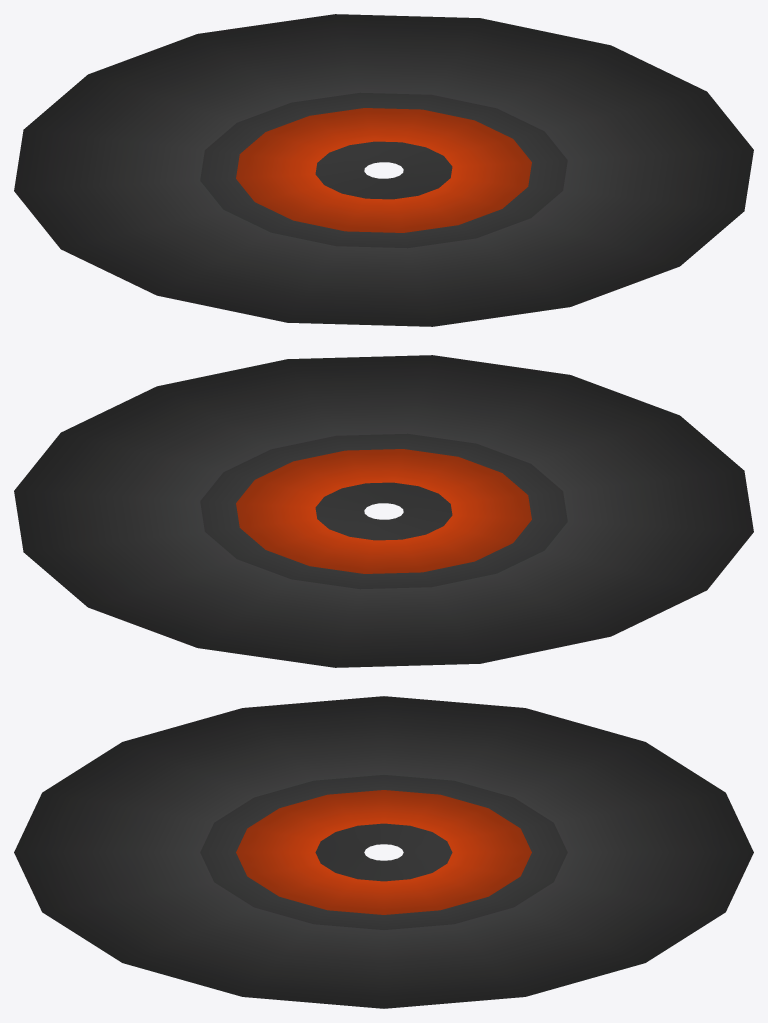
Rendered from Record orange.fbx.
3 renders of one model, top to bottom at view 1: azimuth 30°, elevation 25°; view 2: azimuth 150°, elevation 25°; view 3: azimuth 270°, elevation 25°, orthographic.
Visible parts, largest first — view 1: Circle.001; view 2: Circle.001; view 3: Circle.001.
Part boxes in pixels (x1,y1,x2,y2): Circle.001: (14,14,753,326); Circle.001: (14,355,753,667); Circle.001: (14,696,753,1008).
Size of the model in its own units: 51.66 by 51.66 by 0.
